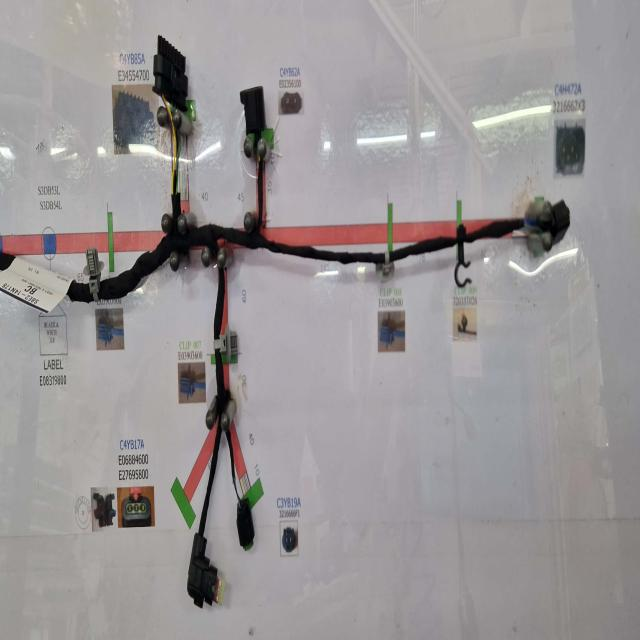Clip: (376, 204, 395, 282), (84, 247, 104, 301), (214, 326, 238, 366)
Connector: (154, 35, 188, 111), (188, 535, 218, 608), (240, 87, 266, 138), (236, 497, 255, 551), (550, 201, 570, 244)
Gape: (162, 100, 184, 194), (454, 223, 471, 288), (524, 211, 550, 236), (232, 482, 244, 509)
Info: (0, 258, 71, 312)
MHEV_N11_Cable: (70, 158, 527, 533)
